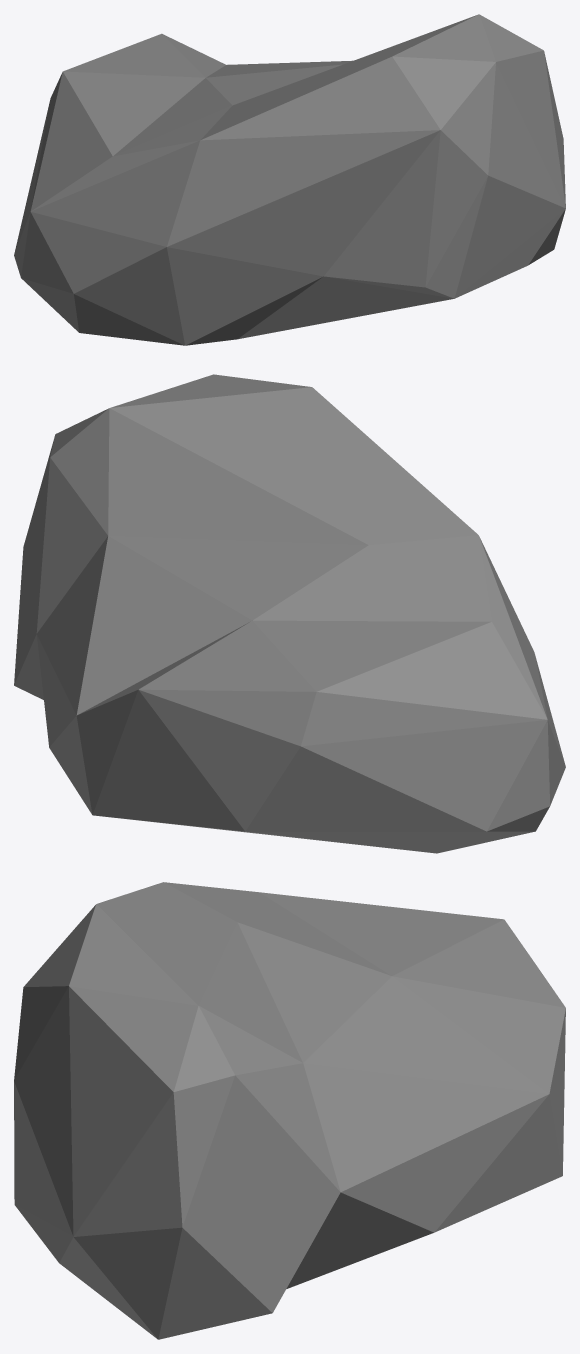
The model's file is Rock_Small_3.glb.
3 renders of one model, top to bottom at view 1: azimuth 30°, elevation 25°; view 2: azimuth 150°, elevation 25°; view 3: azimuth 270°, elevation 25°, orthographic. The views are drawn at different scales.
Parts seen in each view (by area): view 1: Rock_Small_3; view 2: Rock_Small_3; view 3: Rock_Small_3.
Part boxes in pixels (x1,y1,x2,y2): Rock_Small_3: (14, 14, 565, 345); Rock_Small_3: (14, 374, 565, 853); Rock_Small_3: (14, 882, 565, 1339).
Size of the model in its own units: 1.1 by 0.5775 by 0.8576.
1 material, 1 textured.
